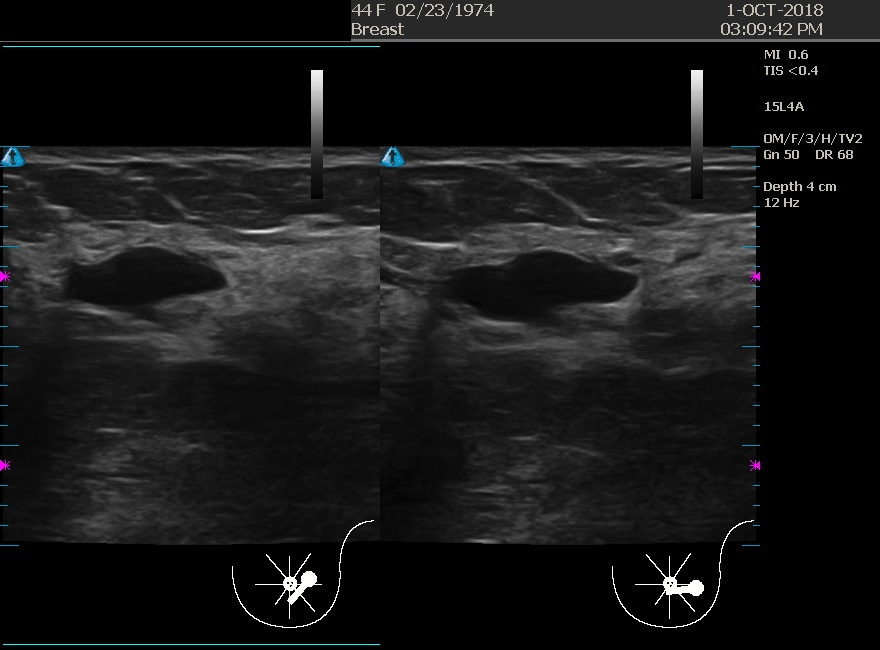BIRADS_4: (35, 152, 235, 352), (437, 197, 637, 397)
